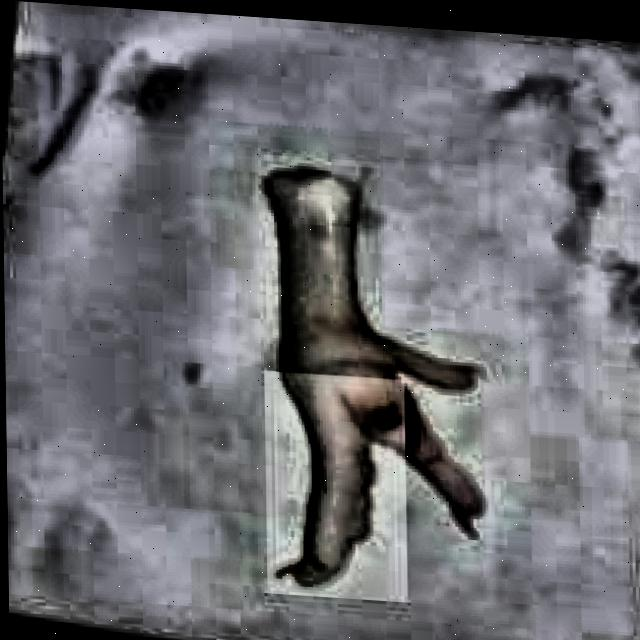Bumble foot: (258, 153, 491, 598)
